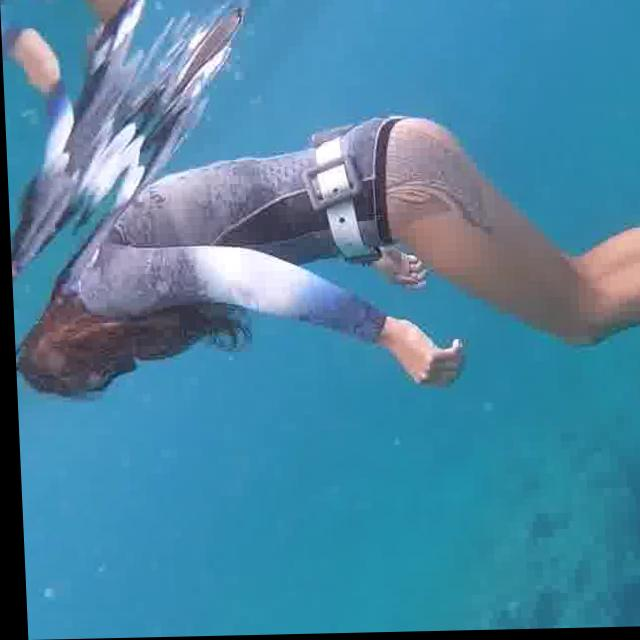human: (4, 98, 640, 423)
